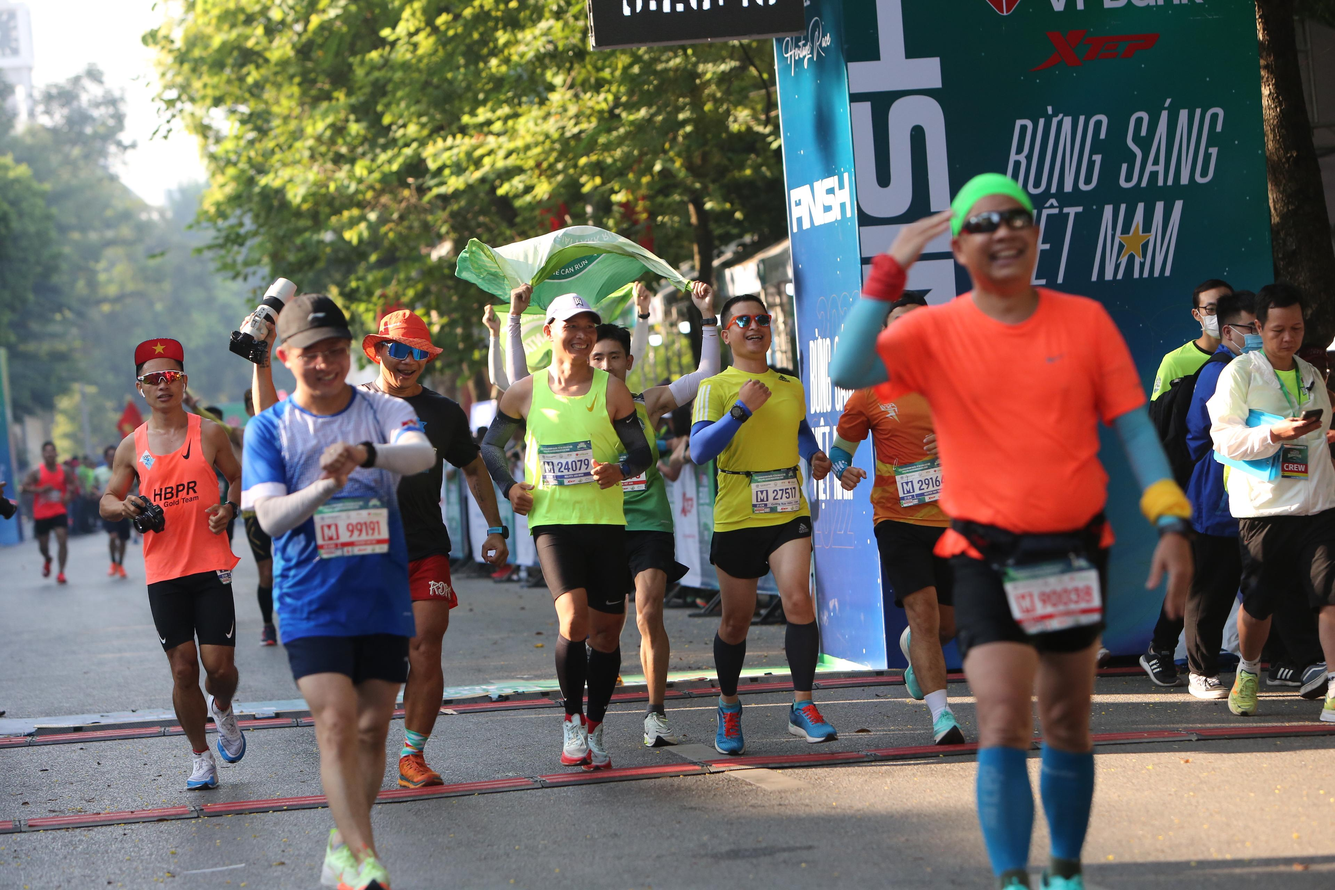bib: (1001, 561, 1102, 634), (314, 497, 389, 558), (892, 460, 944, 508), (539, 443, 598, 485), (751, 470, 802, 511), (613, 455, 647, 491)
